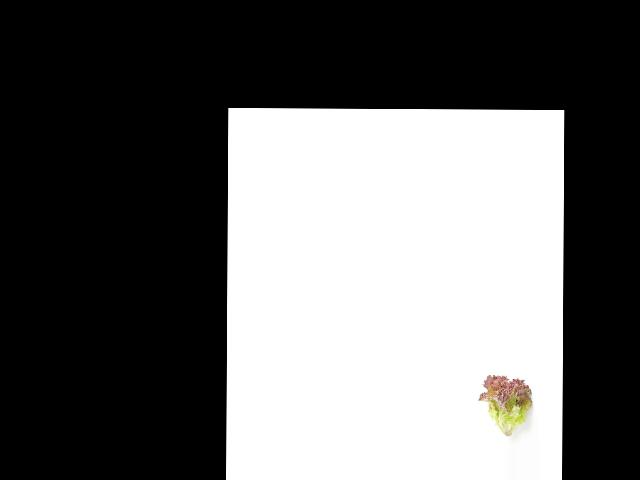lettuce: (480, 371, 533, 444)
